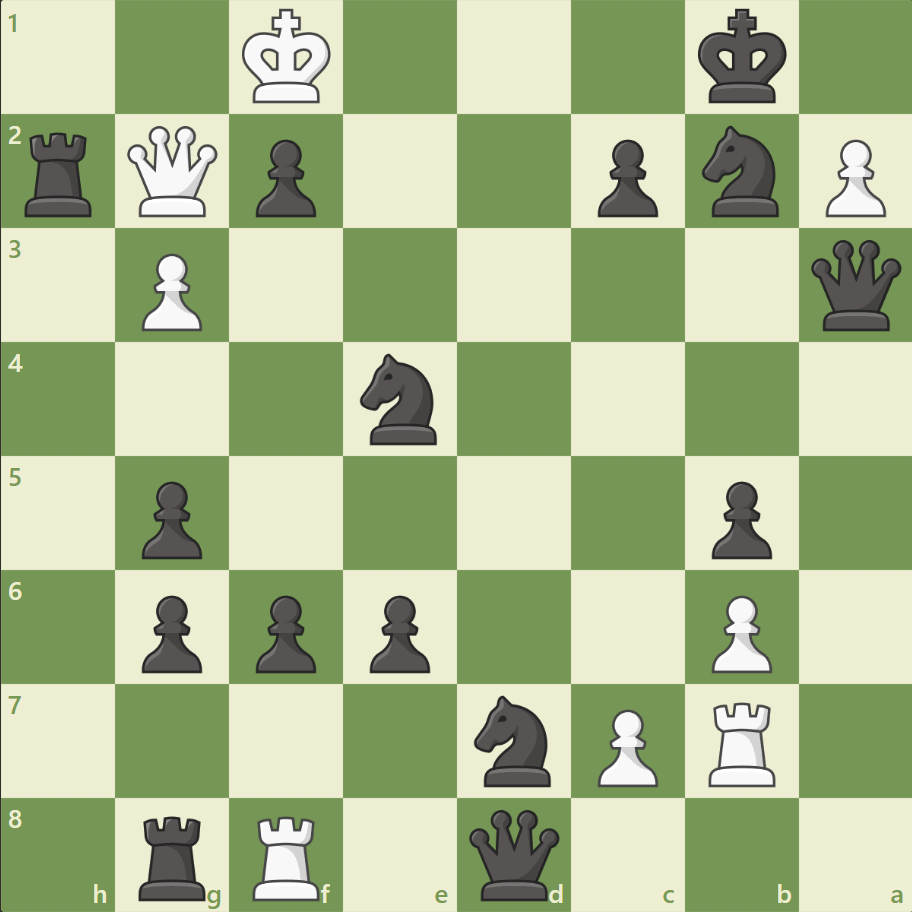K: (238, 4, 338, 112)
P: (701, 586, 776, 677), (133, 246, 208, 337), (588, 700, 662, 791), (815, 132, 889, 223)
Q: (124, 122, 223, 222)
R: (246, 806, 329, 904), (700, 693, 783, 790)
k: (692, 4, 792, 112)
n: (351, 348, 449, 450), (465, 688, 562, 791), (692, 121, 789, 223)
p: (247, 586, 322, 677), (133, 586, 208, 677), (701, 473, 776, 564), (133, 473, 208, 564), (247, 132, 322, 223), (361, 586, 435, 677), (588, 132, 662, 223)
q: (464, 804, 563, 903), (805, 236, 904, 335)
r: (19, 125, 102, 222), (133, 806, 215, 904)
